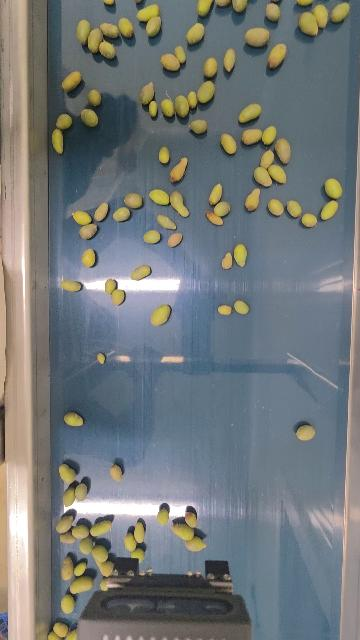Baby Potato: (243, 26, 272, 49), (169, 189, 190, 218), (298, 10, 320, 37), (168, 156, 189, 183), (267, 42, 288, 69), (238, 101, 262, 124), (150, 303, 172, 327), (274, 136, 292, 165), (69, 575, 94, 595), (324, 176, 344, 200), (197, 79, 216, 104), (61, 70, 82, 92), (253, 165, 273, 188), (331, 1, 351, 24), (186, 22, 205, 45), (171, 521, 194, 540), (313, 2, 329, 29), (244, 187, 261, 212), (268, 164, 288, 185), (320, 199, 339, 221), (241, 127, 263, 146), (174, 93, 190, 119), (87, 27, 103, 53), (220, 132, 238, 155), (136, 3, 159, 21), (51, 128, 66, 155), (160, 52, 181, 71), (90, 518, 112, 536), (58, 462, 76, 484), (76, 18, 91, 44), (60, 555, 75, 581), (55, 513, 74, 533), (296, 423, 316, 442), (149, 188, 170, 206), (99, 21, 120, 39), (233, 243, 248, 268), (261, 124, 278, 146), (130, 264, 152, 281), (202, 56, 219, 78), (144, 15, 161, 37), (118, 16, 135, 38), (208, 182, 224, 205), (124, 191, 143, 210), (80, 108, 99, 127), (267, 197, 285, 217), (78, 222, 98, 240), (156, 213, 177, 230), (185, 535, 206, 552), (223, 47, 237, 72), (140, 81, 155, 104), (96, 559, 115, 577), (99, 39, 116, 59), (264, 2, 281, 22), (60, 278, 82, 293), (61, 592, 75, 615), (62, 485, 76, 508), (64, 411, 84, 427), (81, 247, 96, 268), (94, 202, 109, 223), (160, 97, 175, 118), (71, 210, 92, 225), (55, 113, 73, 130), (91, 544, 108, 562), (143, 228, 161, 245), (196, 0, 214, 17), (286, 199, 302, 218), (260, 148, 275, 168), (214, 200, 231, 217), (112, 206, 130, 222), (53, 620, 69, 638), (189, 119, 208, 134), (71, 524, 90, 539), (167, 231, 183, 248), (301, 212, 318, 228), (87, 88, 102, 106), (206, 211, 224, 226), (174, 44, 187, 64), (233, 299, 249, 315), (111, 288, 126, 305), (79, 536, 93, 554), (123, 532, 136, 551), (134, 521, 145, 543), (158, 145, 170, 165), (231, 0, 249, 13), (74, 483, 87, 501), (186, 90, 198, 109), (221, 251, 233, 270), (185, 510, 198, 527), (74, 560, 87, 577), (110, 464, 122, 482), (157, 507, 169, 525), (105, 278, 118, 294), (217, 303, 233, 316), (59, 532, 76, 544), (65, 626, 78, 640), (148, 100, 158, 118), (130, 548, 144, 560), (294, 0, 317, 6), (48, 629, 61, 639), (96, 352, 105, 365), (99, 578, 108, 591), (214, 0, 231, 6), (103, 0, 115, 5)
